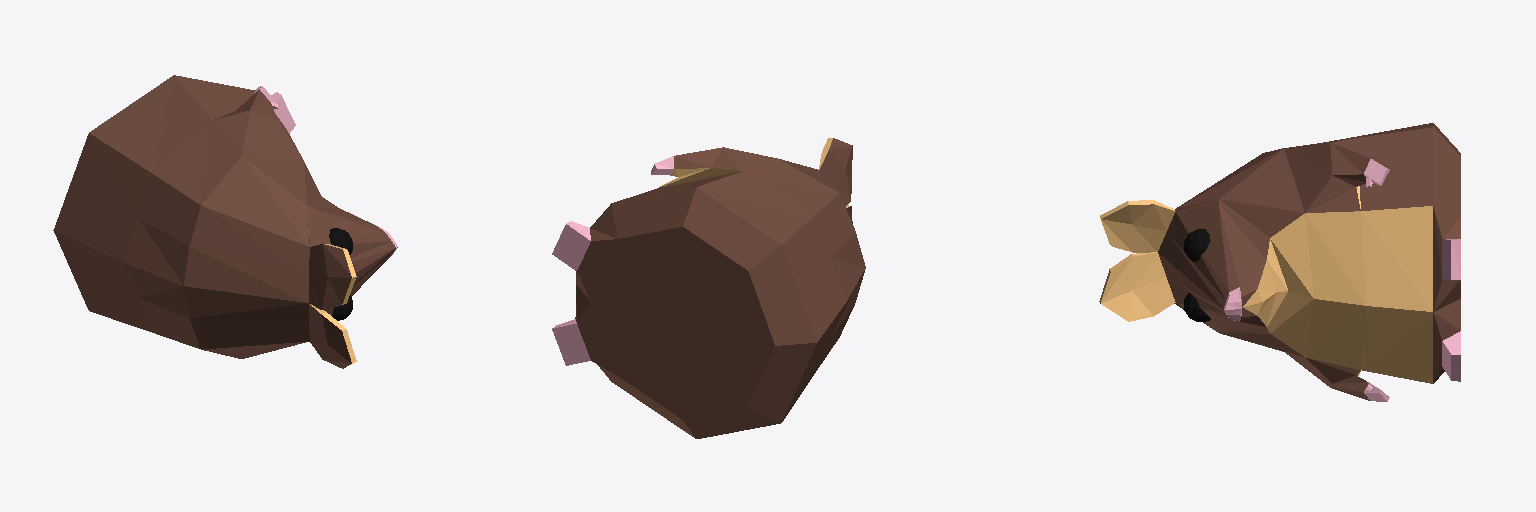
File: hamster.obj
3 views of the same model, side by side, from view 1: azimuth 30°, elevation 25°; view 2: azimuth 150°, elevation 25°; view 3: azimuth 270°, elevation 25° (orthographic).
Bounding box in the file's own units: 0.3747 × 0.3589 × 0.4662.